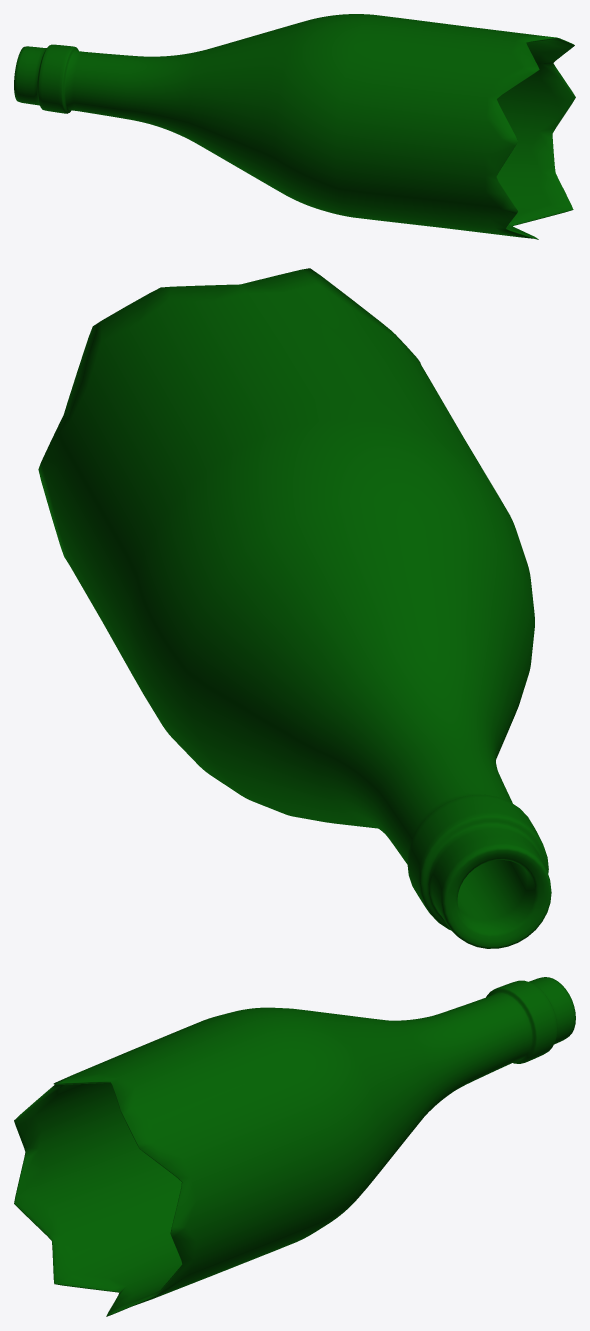
File: broken-wine-bottle-onlyUpperPart.fbx
The picture shows the model from 3 angles, top to bottom: view 1: azimuth 30°, elevation 25°; view 2: azimuth 150°, elevation 25°; view 3: azimuth 270°, elevation 25°; orthographic projection. The views are drawn at different scales.
Visible parts, largest first — view 1: Botella_rota_parte_de_abajo; view 2: Botella_rota_parte_de_abajo; view 3: Botella_rota_parte_de_abajo.
Part boxes in pixels (<box>): Botella_rota_parte_de_abajo: <box>14,14,575,239</box>; Botella_rota_parte_de_abajo: <box>38,268,551,948</box>; Botella_rota_parte_de_abajo: <box>14,977,575,1316</box>.
Bounding box in the file's own units: 27.79 × 12 × 28.05.
